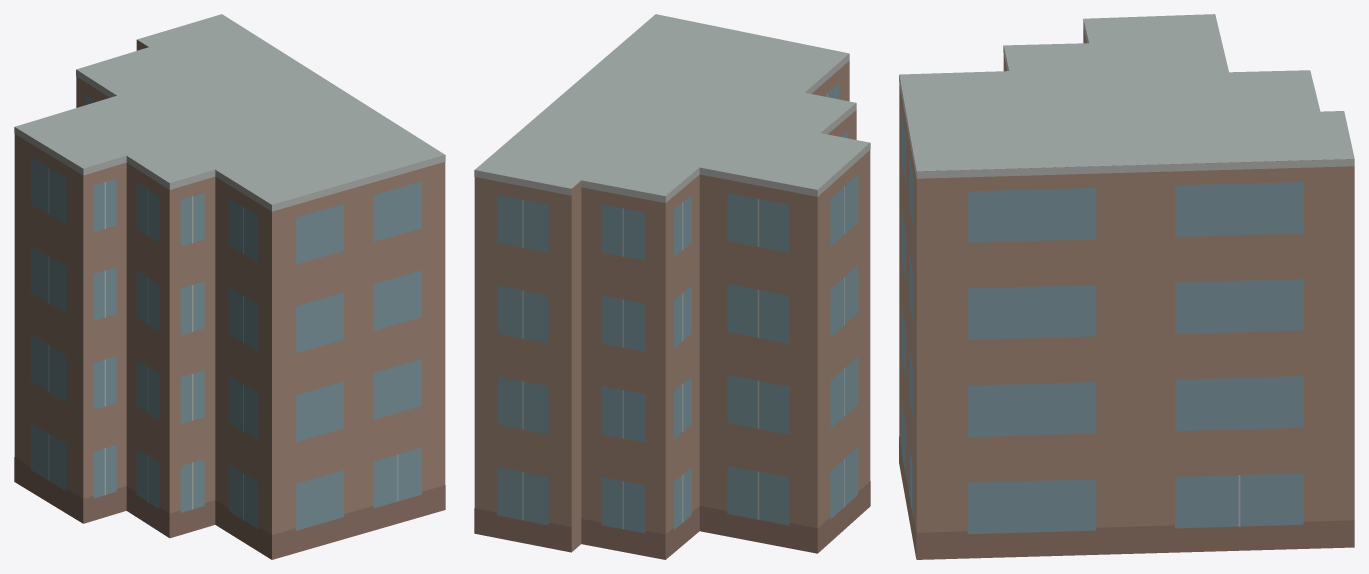
File: survey-upis-32736577.glb
3 views of the same model, side by side, from view 1: azimuth 30°, elevation 25°; view 2: azimuth 150°, elevation 25°; view 3: azimuth 270°, elevation 25° (orthographic). The views are drawn at different scales.
Visible parts, largest first — view 1: survey-upis-32736577.tmp; view 2: survey-upis-32736577.tmp; view 3: survey-upis-32736577.tmp.
Part boxes in pixels (x1,y1,x2,y2): survey-upis-32736577.tmp: (14,14,445,559); survey-upis-32736577.tmp: (474,14,870,559); survey-upis-32736577.tmp: (899,14,1354,559).
Size of the model in its own units: 11.13 by 12.8 by 13.61.
